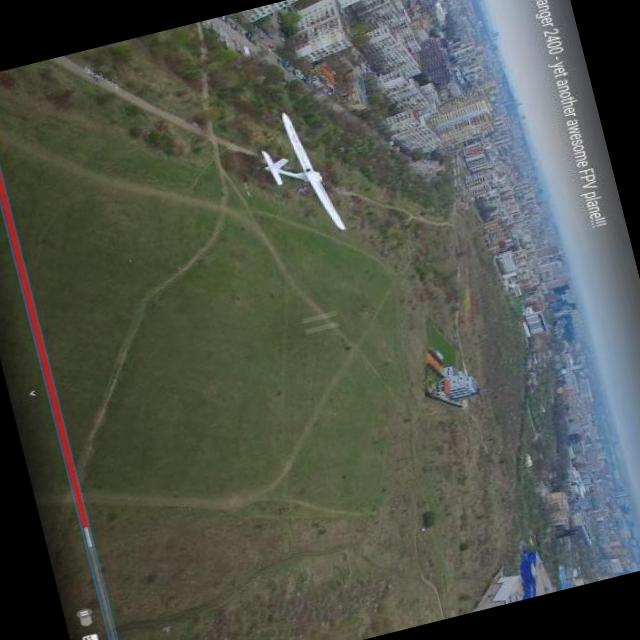UAV: (246, 106, 360, 261)
